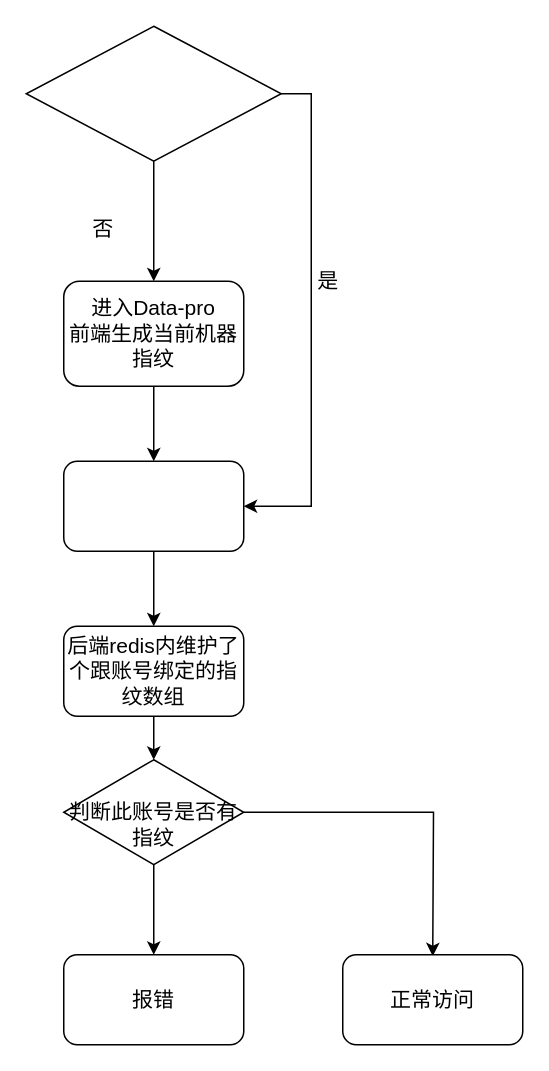
The diagram is 549 pixels wide and 1071 high, and some of its shapes have lost their labels. The shapes that lost their labels are listed below. From the top down, each one's box as (x1, y1, x2, y2) in pixels, then its label:
(25, 25, 281, 161): 前端判断cookie 是否有指纹
(62, 460, 244, 551): 所有接口都带此指纹
